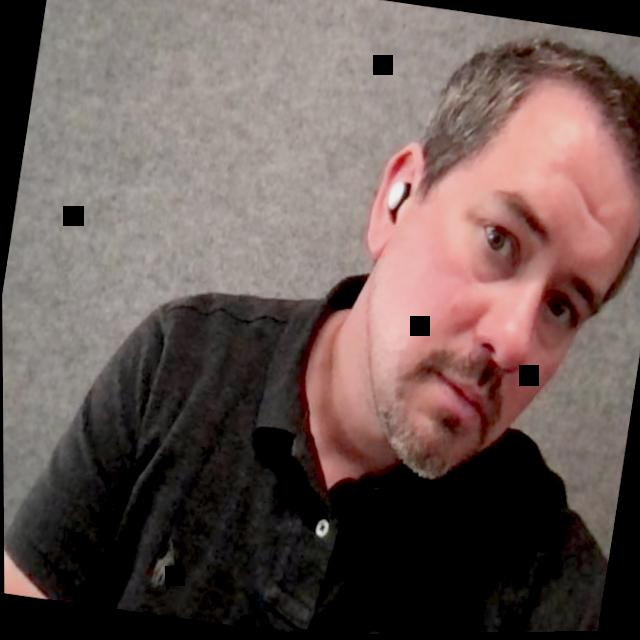NO-Mask: (328, 17, 640, 515)
